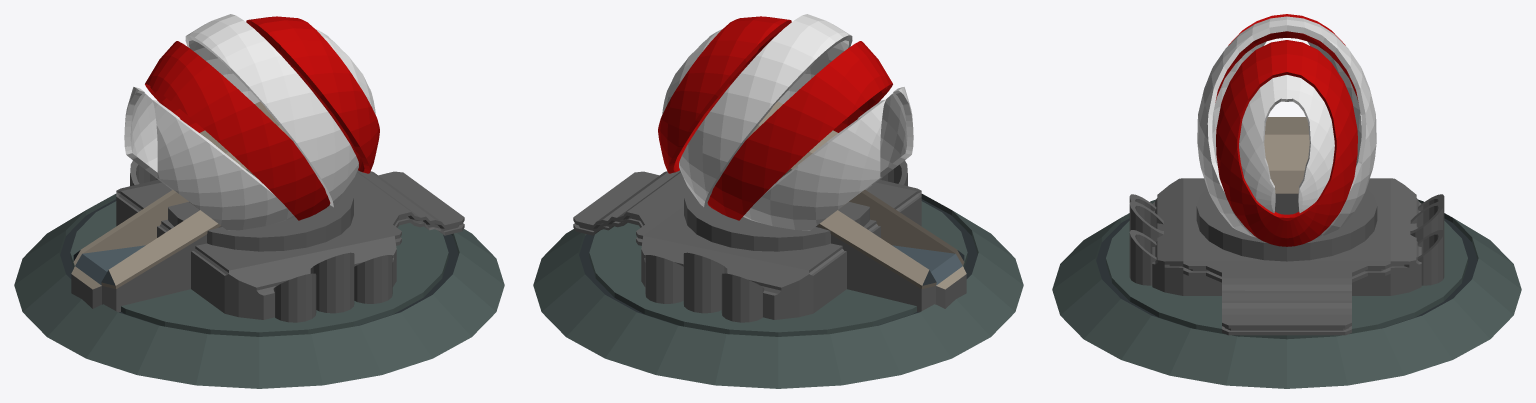
File: building_72.fbx
The picture shows the model from 3 angles, left to right: view 1: azimuth 30°, elevation 25°; view 2: azimuth 150°, elevation 25°; view 3: azimuth 270°, elevation 25°; orthographic projection. The views are drawn at different scales.
Parts seen in each view (by area): view 1: building_72; view 2: building_72; view 3: building_72.
Part boxes in pixels (x1,y1,x2,y2): building_72: [14, 14, 504, 388]; building_72: [533, 14, 1023, 388]; building_72: [1052, 14, 1521, 388].
Size of the model in its own units: 2416 by 1461 by 2416.
